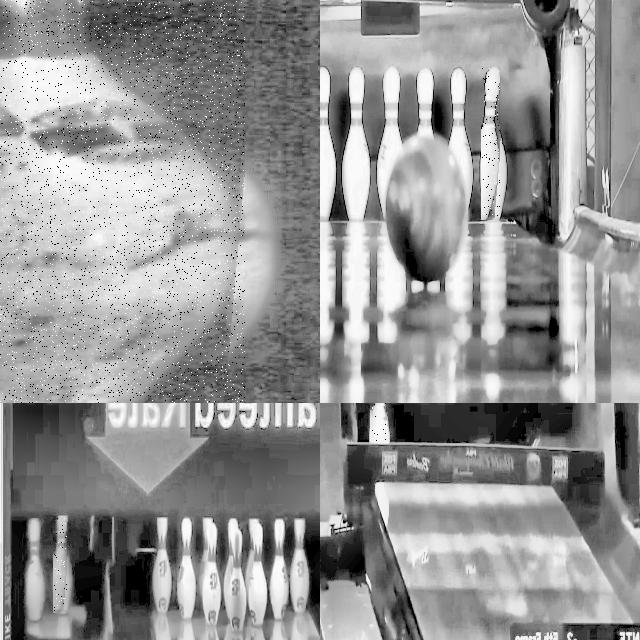bowling-ball: (385, 136, 467, 282)
bowling-pins: (342, 66, 370, 220), (377, 65, 403, 213), (449, 68, 473, 208), (482, 68, 499, 219), (320, 66, 336, 221), (201, 523, 222, 625), (248, 525, 268, 623), (177, 517, 196, 619), (270, 518, 289, 619), (26, 518, 44, 620), (290, 519, 309, 613), (229, 530, 246, 631), (153, 517, 171, 612), (224, 518, 237, 620), (417, 67, 434, 137), (54, 517, 66, 611), (372, 403, 384, 442)
sweep board: (346, 443, 604, 500)
